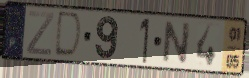1: (138, 17, 151, 65)
4: (195, 21, 219, 69)
9: (94, 14, 120, 62)
D: (52, 10, 84, 61)
N: (160, 19, 193, 66)
Z: (24, 10, 56, 58)
